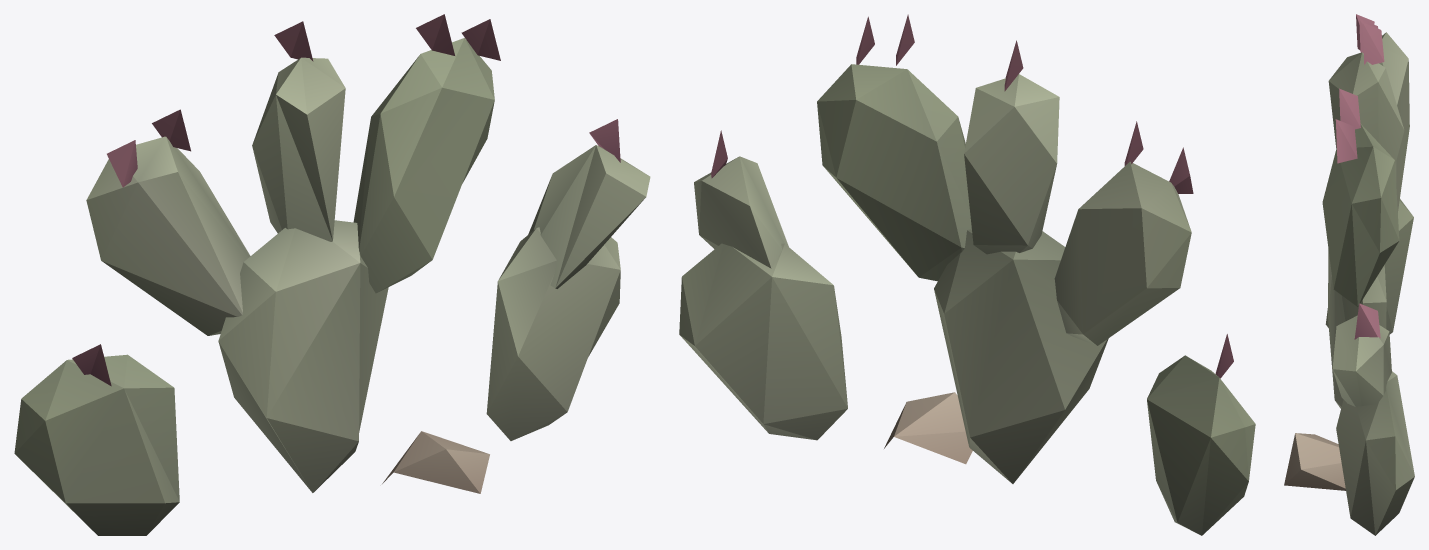
File: pear.lod1.glb
3 renders of one model, left to right at view 1: azimuth 30°, elevation 25°; view 2: azimuth 150°, elevation 25°; view 3: azimuth 270°, elevation 25°, orthographic. The views are drawn at different scales.
Size of the model in its own units: 1.81 by 1.34 by 0.3904.
